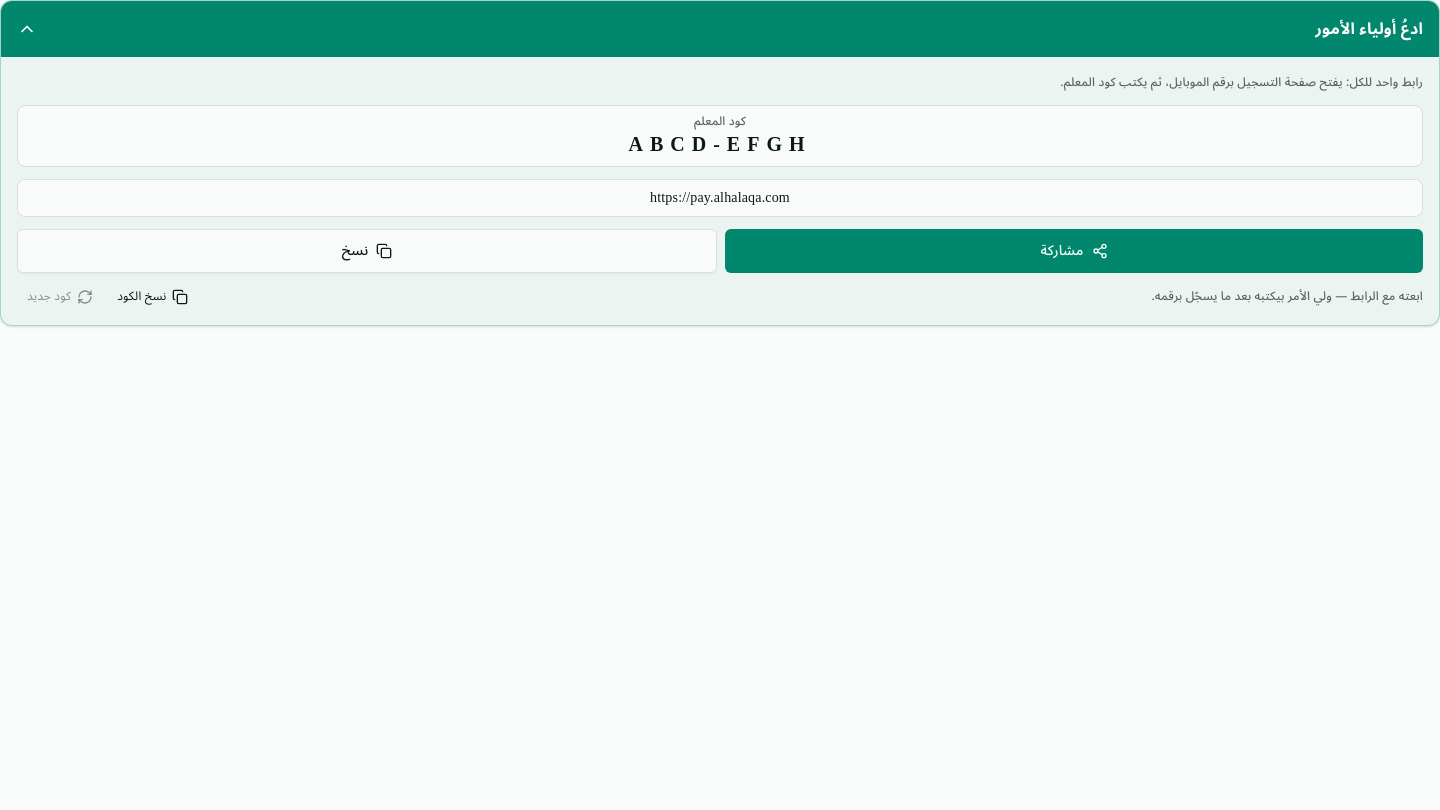
Test case: ShareEntryCard › surfaces a rotation failure instead of faking success
Click the button with test id "share-entry-rotate" at (60, 296), box [17, 284, 103, 308]
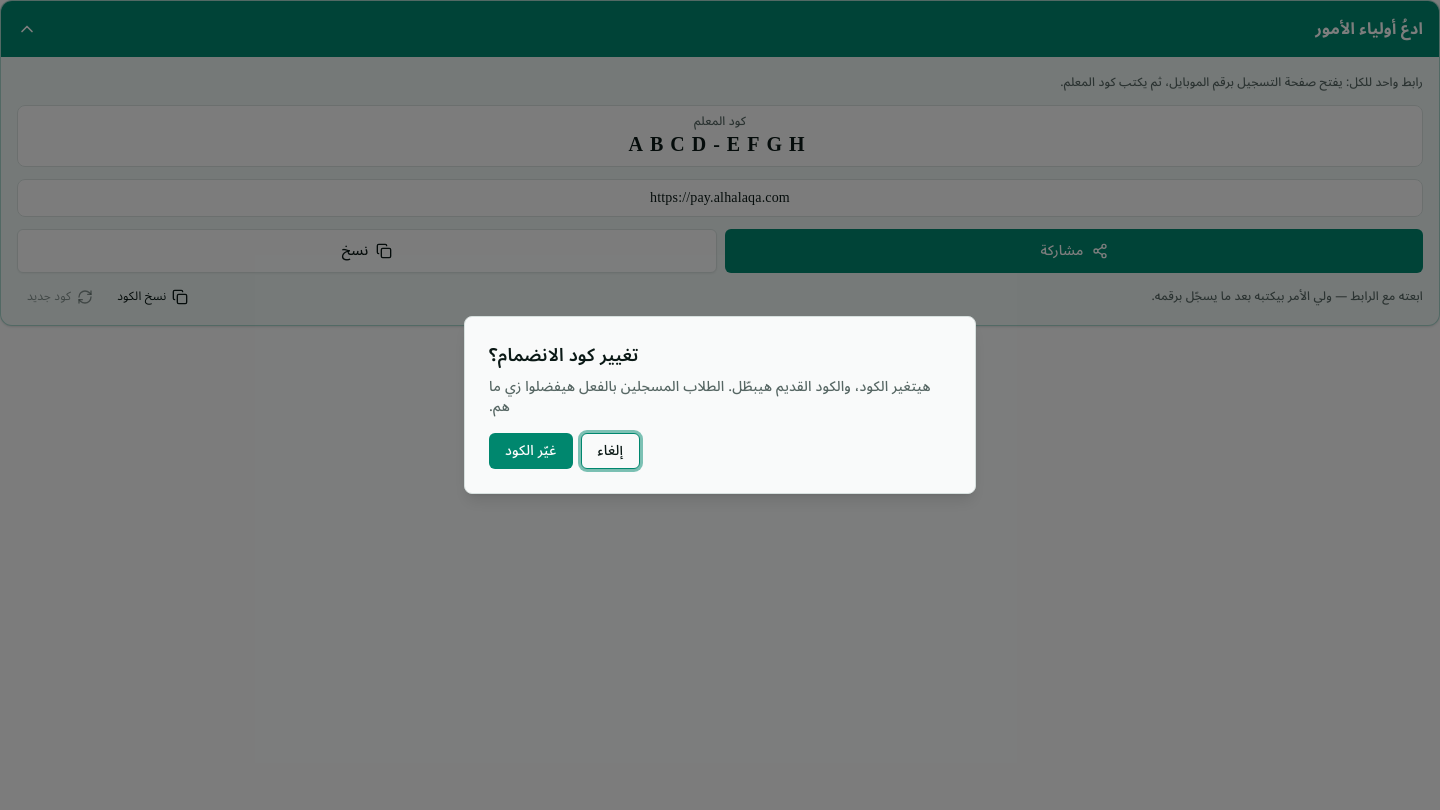
Click the button with test id "share-entry-rotate-confirm" at (531, 451), box [489, 433, 572, 469]
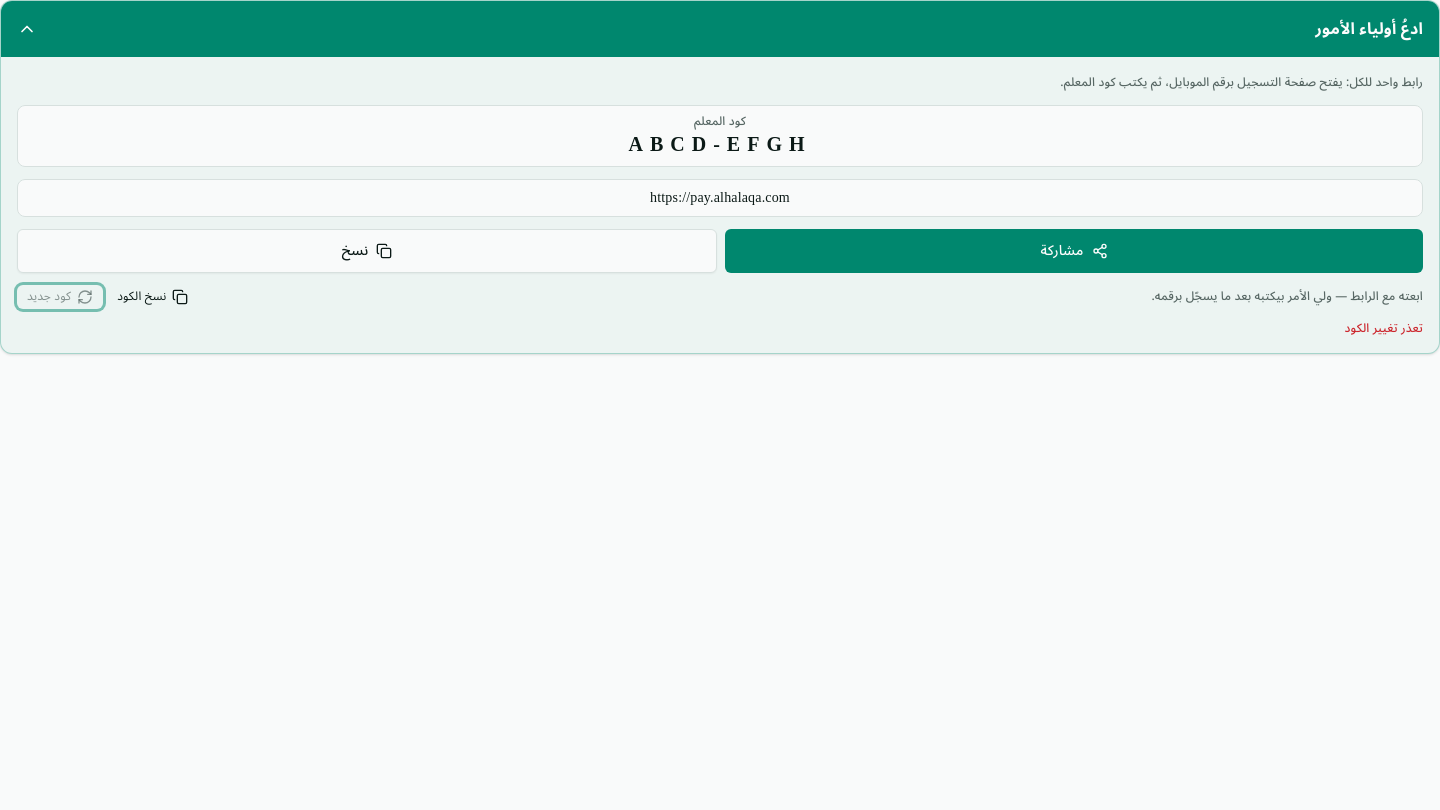
Expected: the text with test id "share-entry-code" reads "ABCD-EFGH", [628, 132, 812, 154]
Now the text "تعذر تغيير الكود" is shown, box [1345, 316, 1423, 340]
